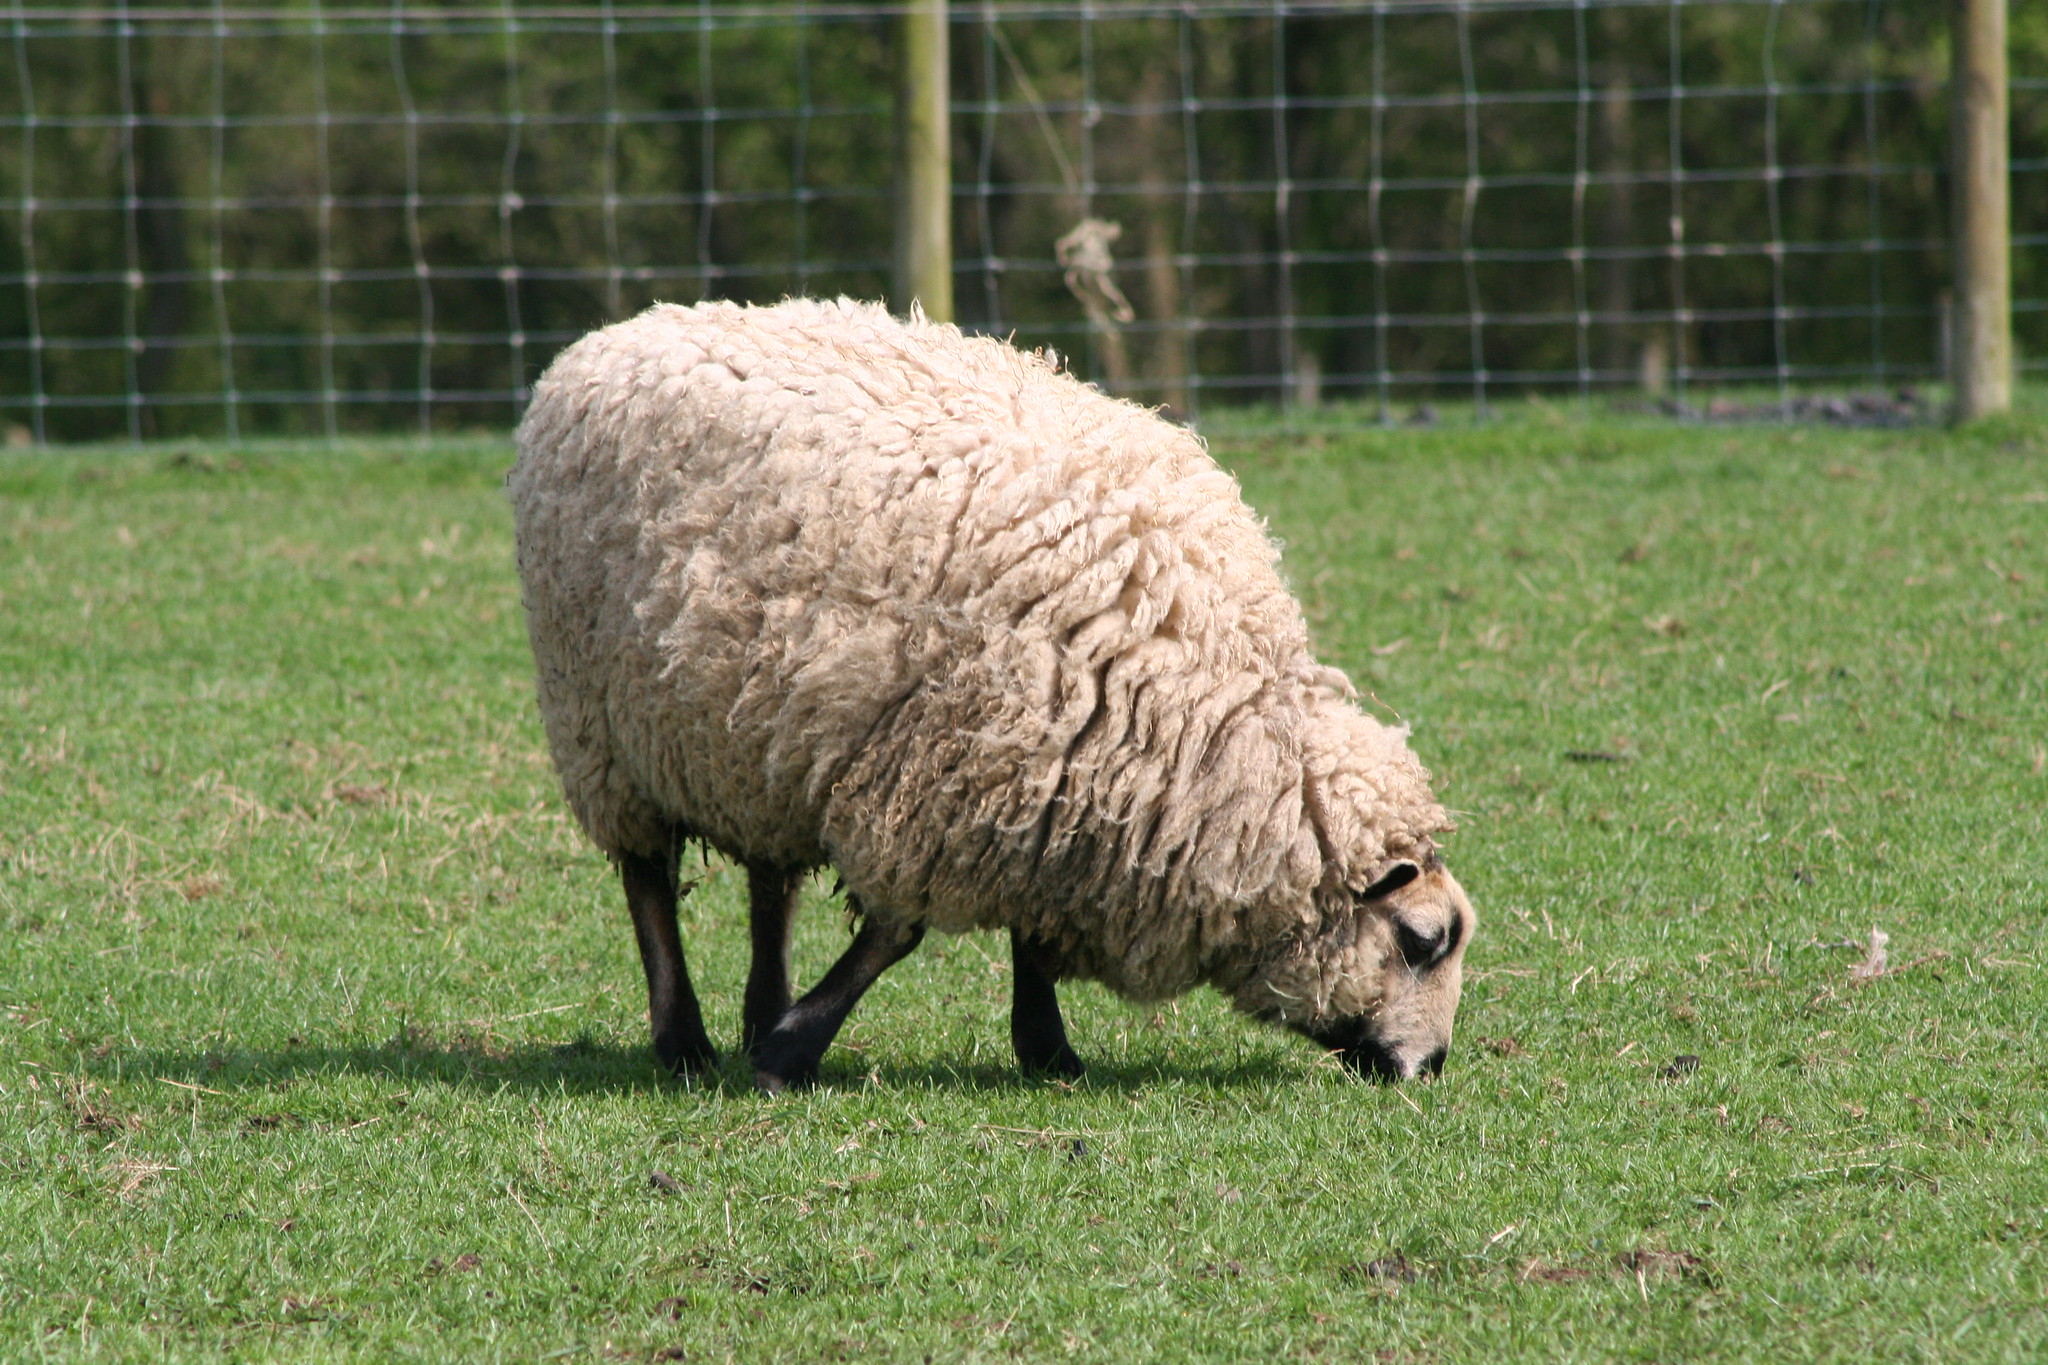sheep: (518, 296, 1500, 1092)
